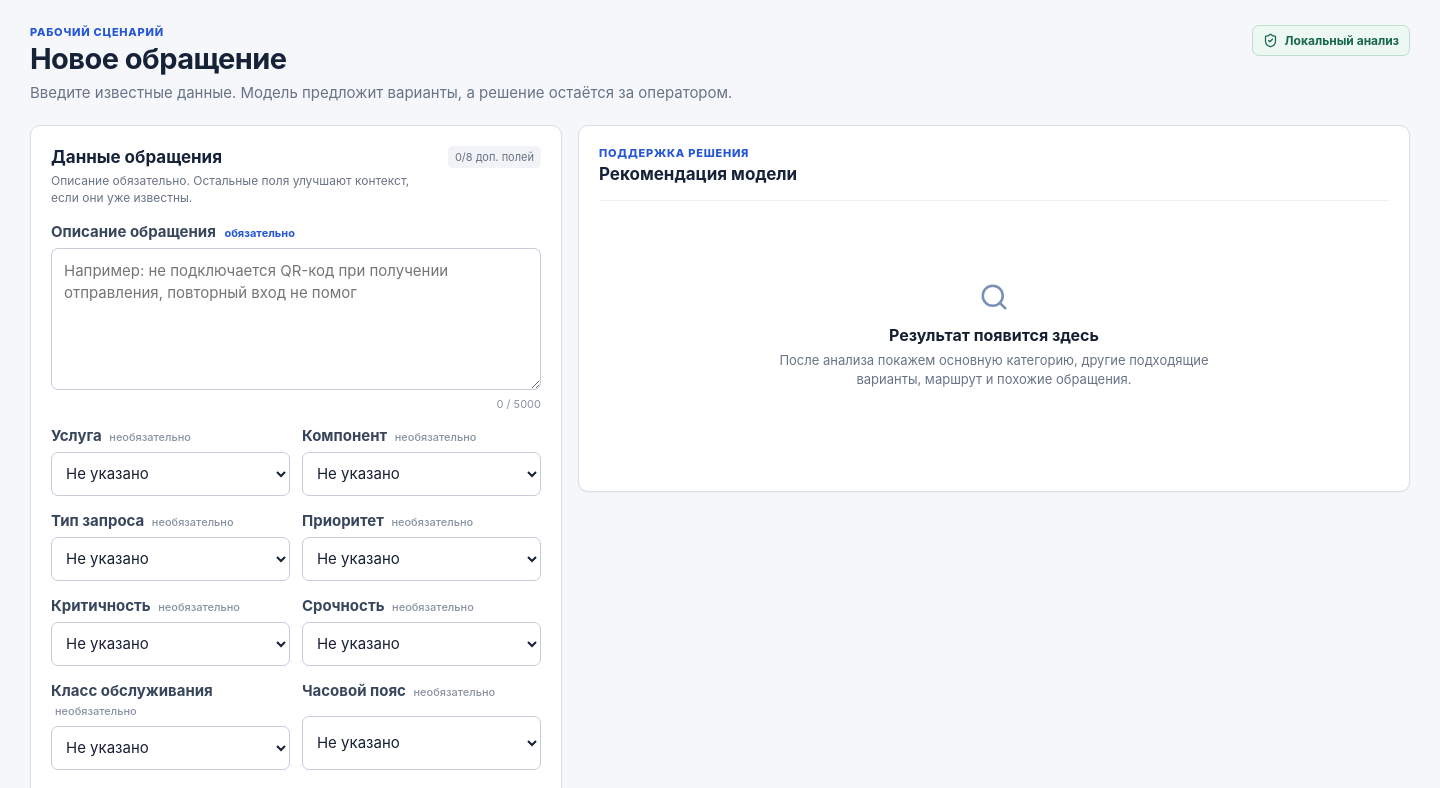
lets the operator explicitly run an additional category check
Replace the text in the text box labelled "Описание обращения" with "Не отображается отправление в личном кабинете". click: (296,319)
box: [51, 248, 541, 390]
(page scrolled)
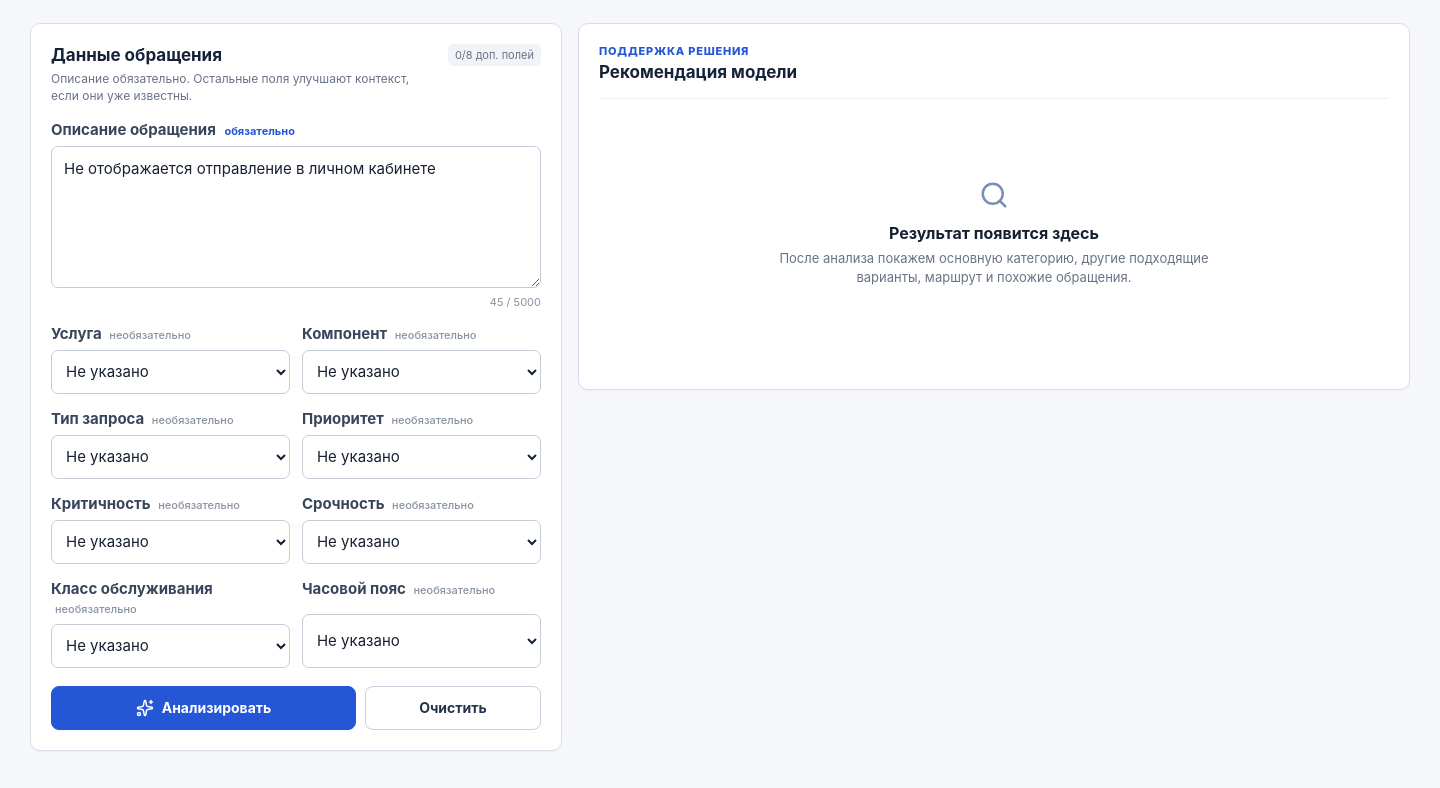
Click the button "Анализировать". click: (204,708)
box: [51, 686, 356, 730]
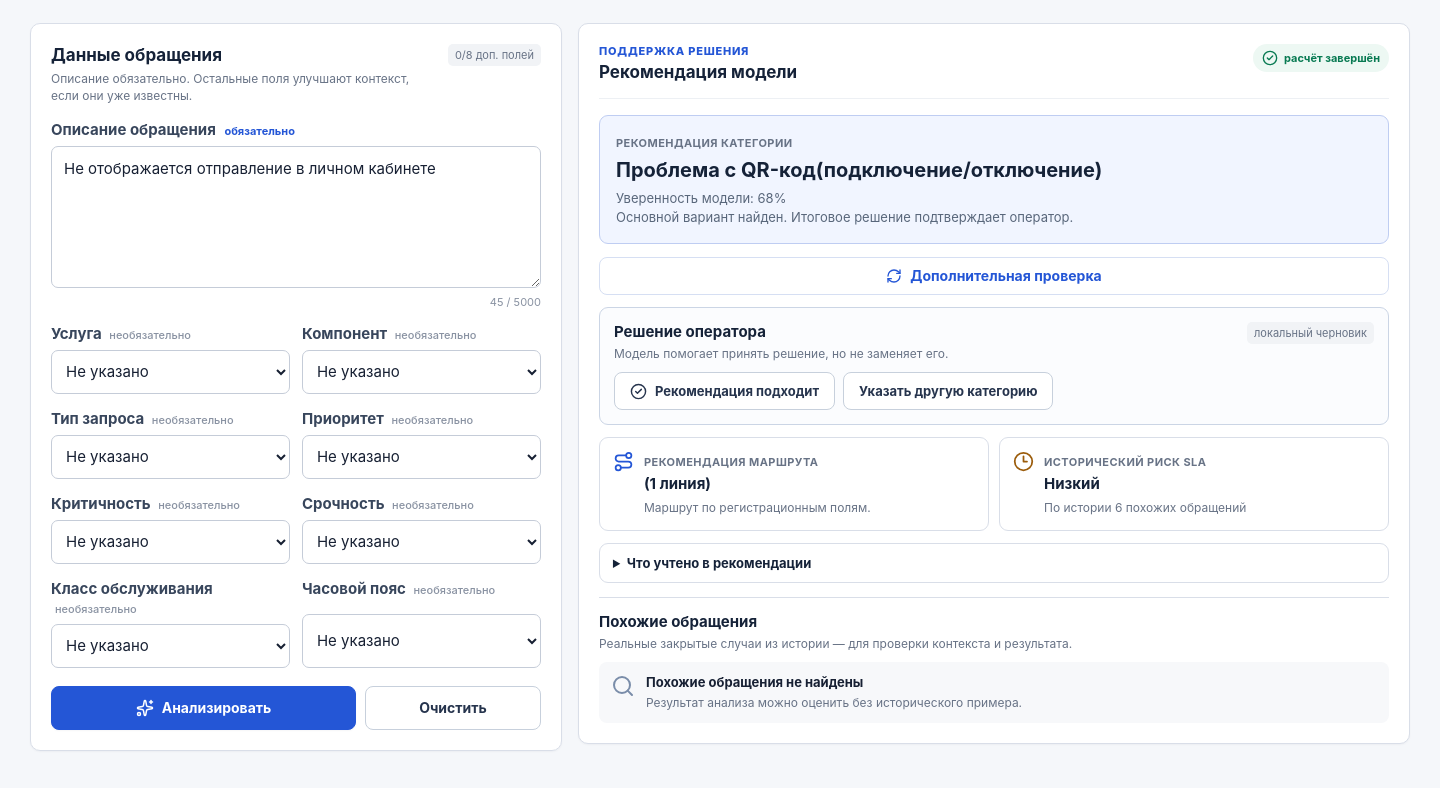
Check: the button "Дополнительная проверка" is shown
Click the button "Дополнительная проверка". click: (994,276)
box: [599, 257, 1389, 295]
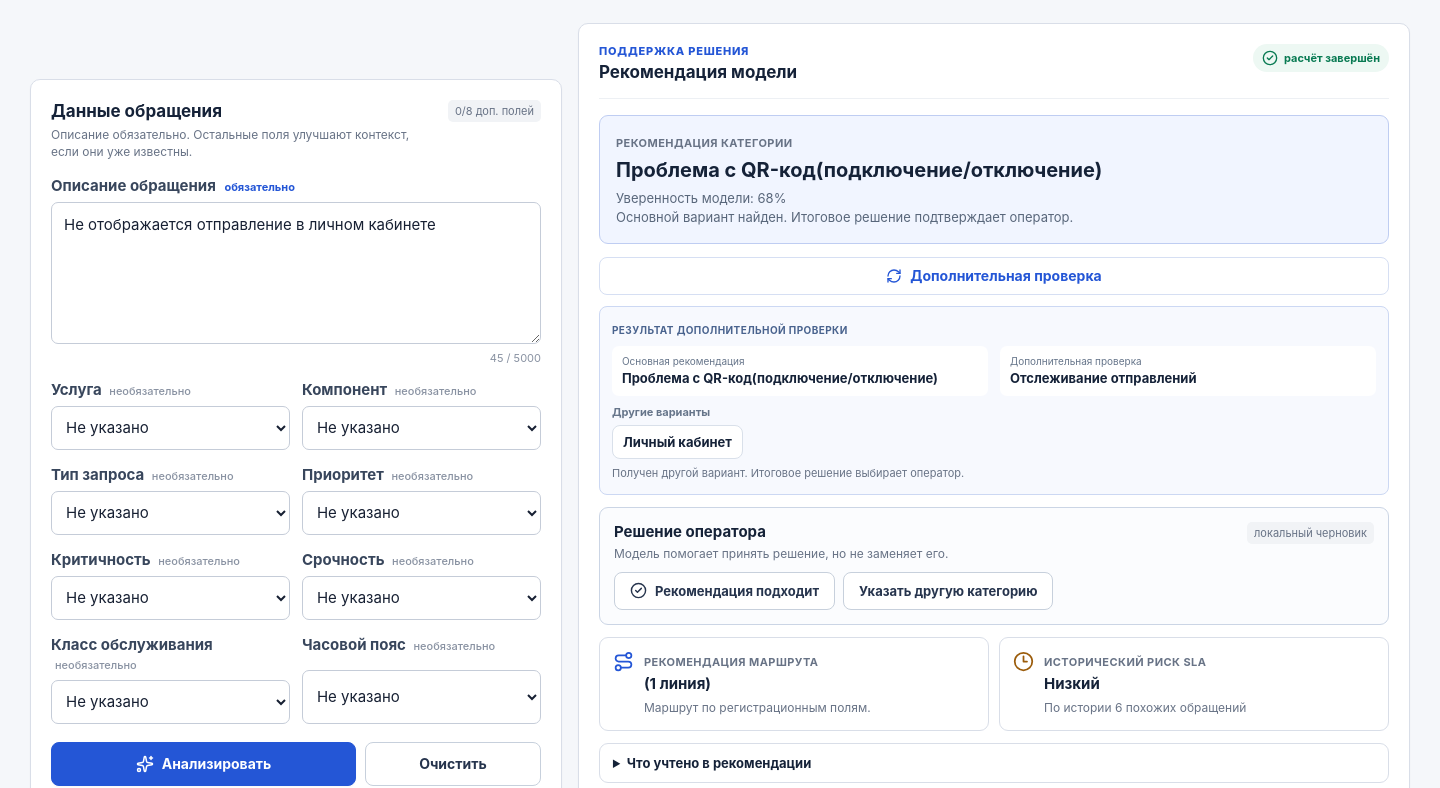
Check: the text "Уверенность модели: 68%" is shown, box [616, 190, 786, 206]
Check: the text "Результат дополнительной проверки" is shown, box [612, 324, 848, 336]
Check: the heading "Отслеживание отправлений" is shown, box [1010, 370, 1197, 386]
